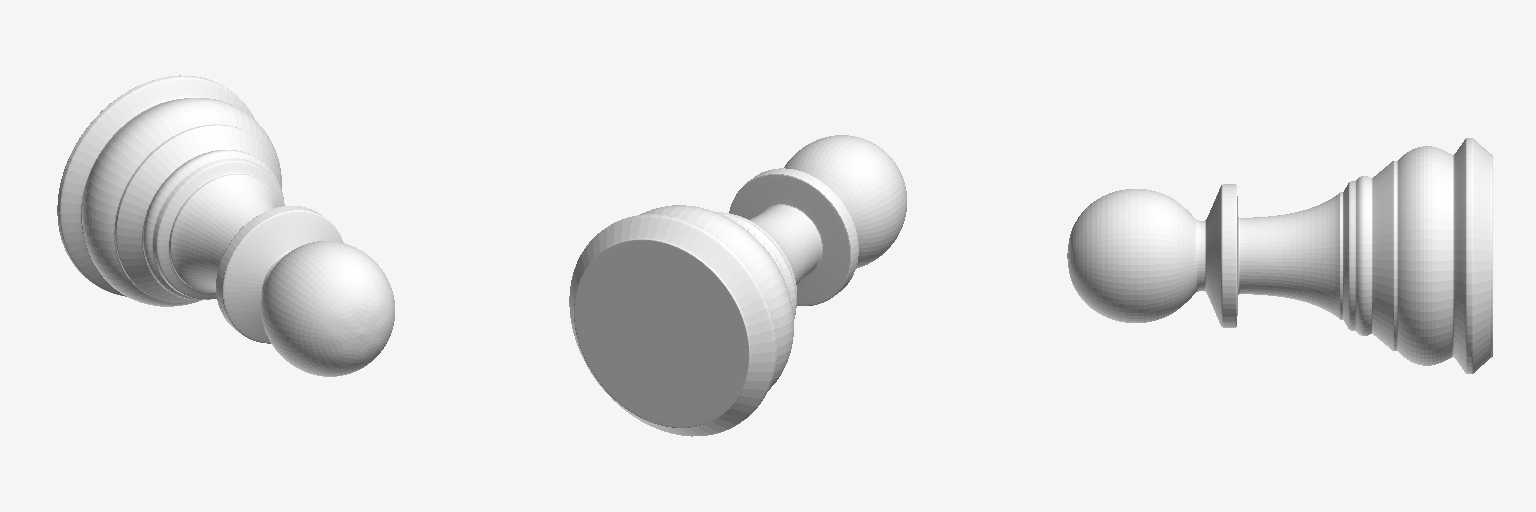
Rendered from BPawn.obj.
3 views of the same model, side by side, from view 1: azimuth 30°, elevation 25°; view 2: azimuth 150°, elevation 25°; view 3: azimuth 270°, elevation 25° (orthographic).
Visible parts, largest first — view 1: 12937_Wooden_Chess_Pawn_Side_B_V2_L3; view 2: 12937_Wooden_Chess_Pawn_Side_B_V2_L3; view 3: 12937_Wooden_Chess_Pawn_Side_B_V2_L3.
Boxes of the visible parts, <box> form: 12937_Wooden_Chess_Pawn_Side_B_V2_L3: <box>57,75,394,376</box>; 12937_Wooden_Chess_Pawn_Side_B_V2_L3: <box>569,135,906,436</box>; 12937_Wooden_Chess_Pawn_Side_B_V2_L3: <box>1067,138,1492,373</box>.
Bounding box in the file's own units: 4.56 × 4.56 × 8.17.